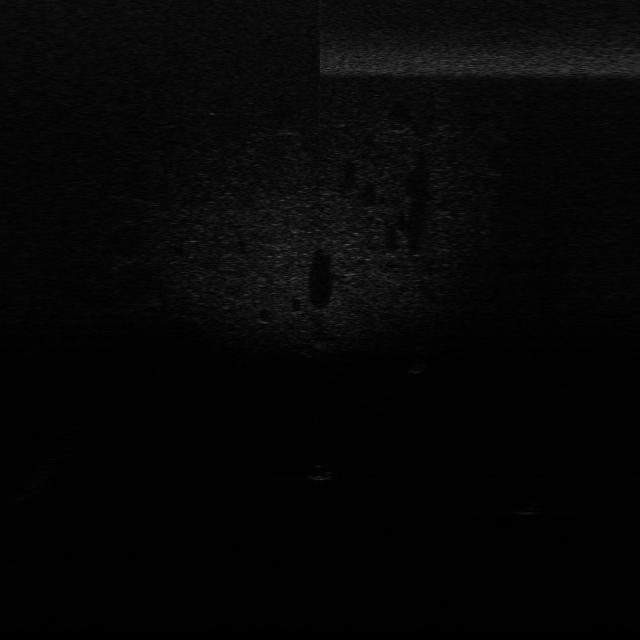ball: (306, 462, 336, 483)
square cage: (506, 497, 554, 519)
tyre: (402, 342, 433, 375)
